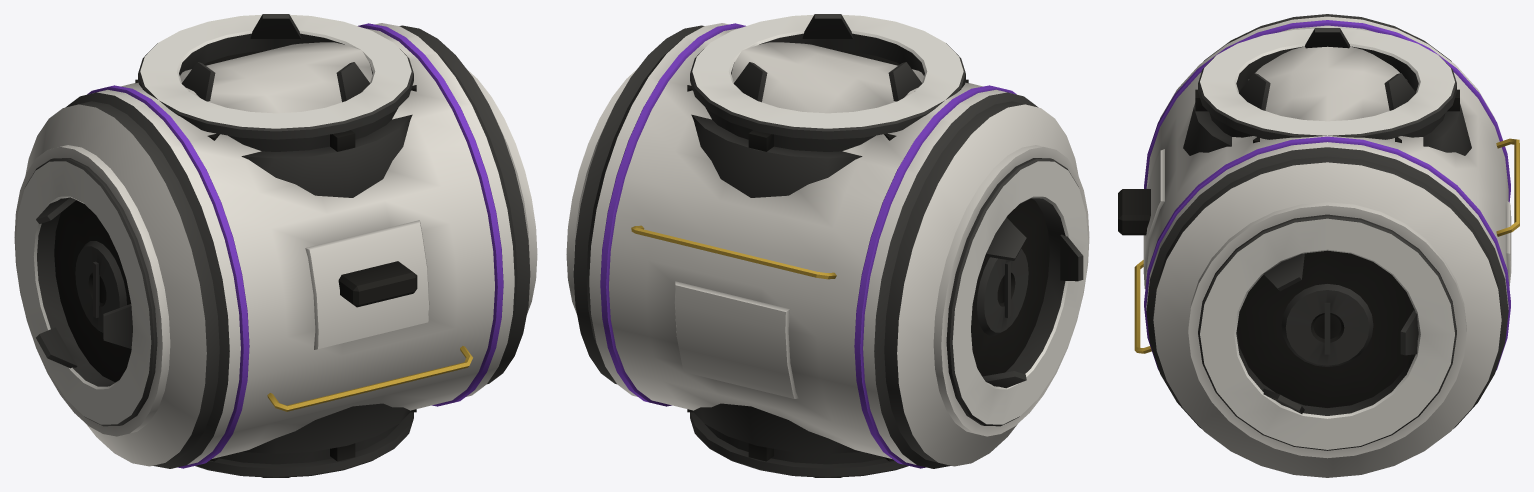
File: docking-node.glb
3 views of the same model, side by side, from view 1: azimuth 30°, elevation 25°; view 2: azimuth 150°, elevation 25°; view 3: azimuth 270°, elevation 25° (orthographic). The views are drawn at different scales.
Parts seen in each view (by area): view 1: body; view 2: body; view 3: body.
Part boxes in pixels (<box>): body: <box>14,14,537,477</box>; body: <box>566,14,1089,477</box>; body: <box>1118,14,1519,477</box>.
Bounding box in the file's own units: 3.33 × 2.93 × 2.88.
